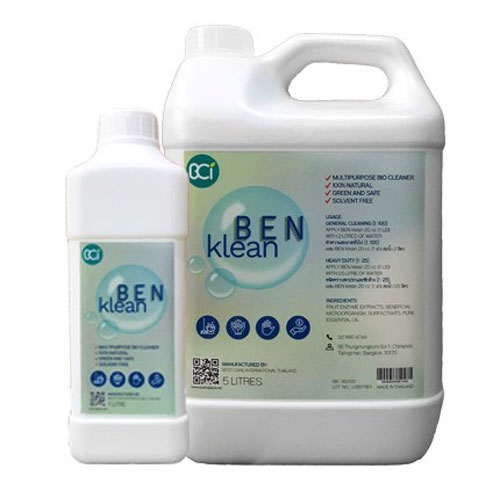Cleaning_solution: (155, 17, 447, 471), (57, 102, 194, 470)
